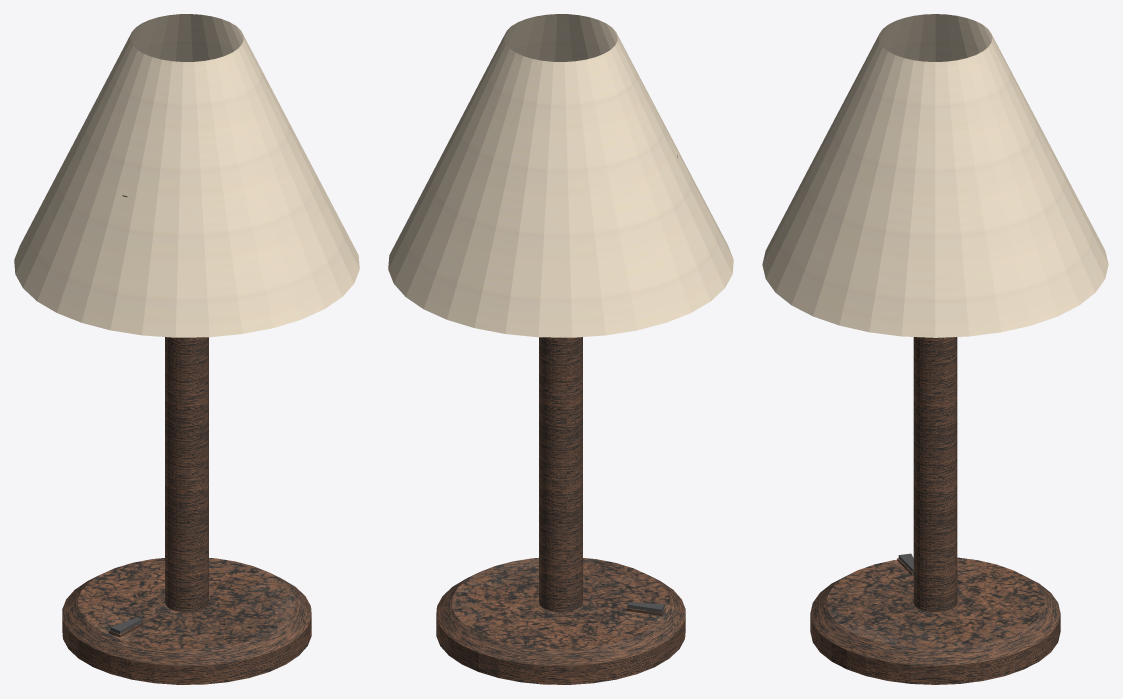
The model's file is lampara de mesita de luz.fbx.
The picture shows the model from 3 angles, left to right: view 1: azimuth 30°, elevation 25°; view 2: azimuth 150°, elevation 25°; view 3: azimuth 270°, elevation 25°; orthographic projection.
Parts seen in each view (by area): view 1: Cylinder; view 2: Cylinder; view 3: Cylinder.
Part boxes in pixels (<box>): Cylinder: <box>14,14,359,684</box>; Cylinder: <box>388,14,733,684</box>; Cylinder: <box>762,14,1108,684</box>.
Bounding box in the file's own units: 25.79 × 48.82 × 25.79.
3 materials, 2 textured.
